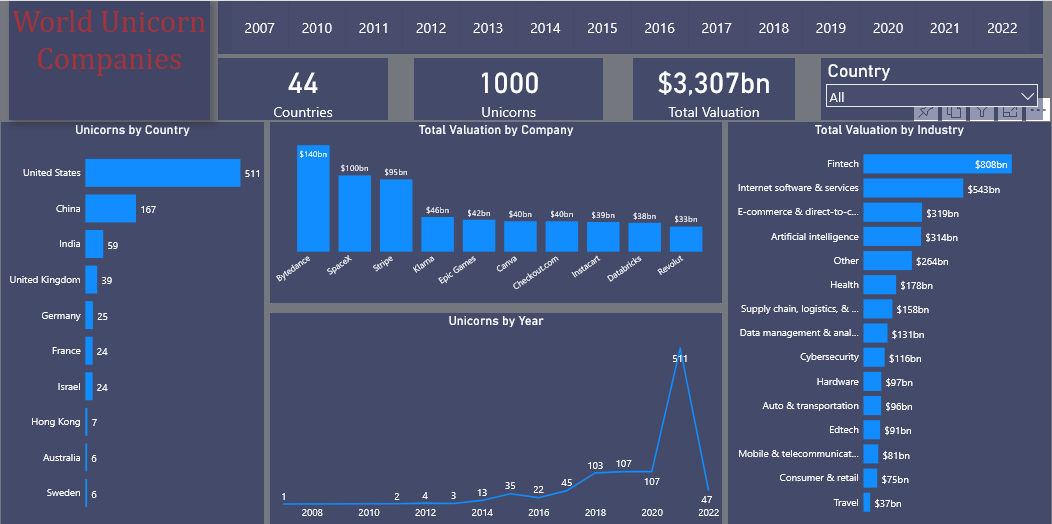

The page's visual inventory and layout, read from the dashboard file:
{"tool":"powerbi","page":{"name":"Page 1","canvas":[2000,1000],"ordinal":0},"visuals":[{"type":"clusteredBarChart","title":"Unicorns by Country","fields":{"Category":["World Unicorns.Country"],"Y":["Calc.Unicorns"]},"box":[4.3,232.3,498.9,763.4],"z":0},{"type":"columnChart","title":"Total Valuation by Company","fields":{"Category":["World Unicorns.Company"],"Y":["Calc.Total Valuation"]},"box":[514.6,232.3,858.1,344.1],"z":1000},{"type":"lineChart","fields":{"Category":["World Unicorns.Date Joined.Variation.Date Hierarchy.Year"],"Y":["Calc.Unicorns"]},"box":[514,593.5,858.1,402.2],"z":2000},{"type":"card","fields":{"Values":["Calc.Total Valuation"]},"box":[1202.2,109.7,307.5,118.3],"z":3000},{"type":"card","fields":{"Values":["Calc.Unicorns"]},"box":[787.1,109.7,359.1,118.3],"z":4000},{"type":"card","fields":{"Values":["Calc.Countries"]},"box":[415.1,109.7,322.6,118.3],"z":5000},{"type":"clusteredBarChart","title":"Total Valuation by Industry","fields":{"Y":["Calc.Total Valuation"],"Category":["World Unicorns.Industry"]},"box":[1382.8,232.3,612.9,763.4],"z":6000},{"type":"textbox","box":[19.4,0,380.6,228],"z":7000},{"type":"slicer","fields":{"Values":["World Unicorns.Date Joined.Variation.Date Hierarchy.Year"]},"box":[415.1,0,1565.6,103.2],"z":8000},{"type":"slicer","fields":{"Values":["World Unicorns.Country"]},"box":[1559.1,109.7,421.5,118.3],"z":9000}]}

Visuals, with their boxes in screenshot pixels (x1, y1, x2, y2), scaled from the page's 2000x1000 canvas onto the 1052x524 screenshot:
"Unicorns by Country" clusteredBarChart: <region>2, 122, 265, 522</region>
"Total Valuation by Company" columnChart: <region>271, 122, 722, 302</region>
lineChart - World Unicorns.Date Joined.Variation.Date Hierarchy.Year x Calc.Unicorns: <region>270, 311, 722, 522</region>
card - Calc.Total Valuation: <region>632, 57, 794, 119</region>
card - Calc.Unicorns: <region>414, 57, 603, 119</region>
card - Calc.Countries: <region>218, 57, 388, 119</region>
"Total Valuation by Industry" clusteredBarChart: <region>727, 122, 1050, 522</region>
textbox: <region>10, 0, 210, 119</region>
slicer - World Unicorns.Date Joined.Variation.Date Hierarchy.Year: <region>218, 0, 1042, 54</region>
slicer - World Unicorns.Country: <region>820, 57, 1042, 119</region>
